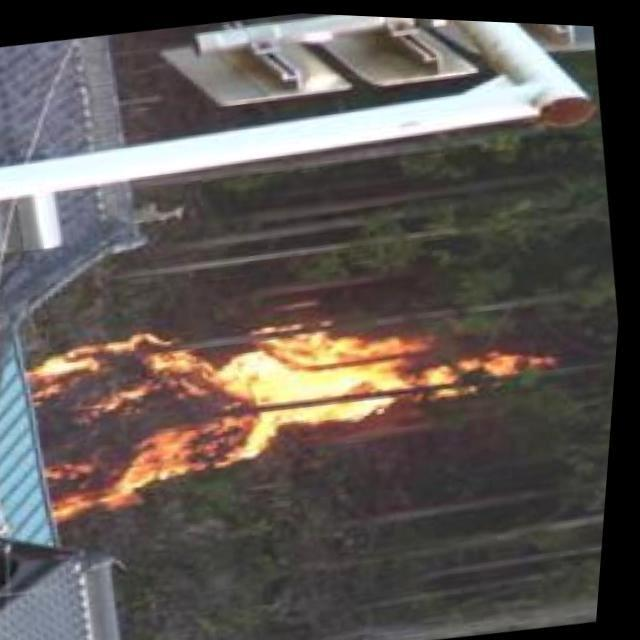fire: (15, 264, 553, 528)
